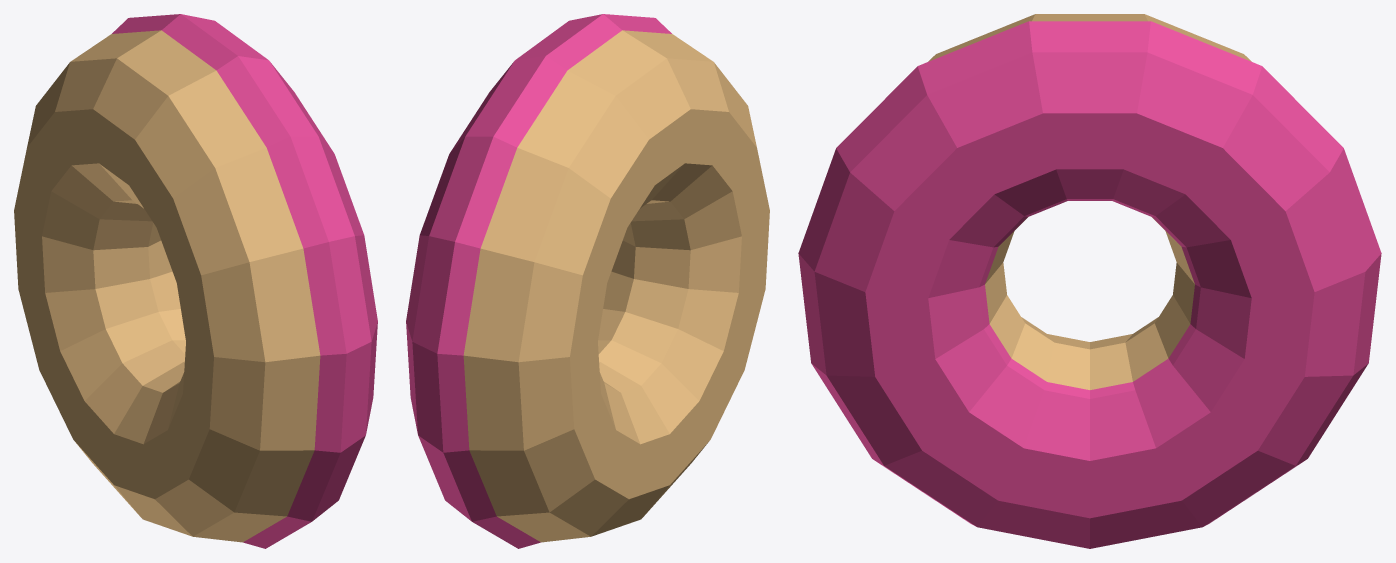
Rendered from Donut.glb.
3 views of the same model, side by side, from view 1: azimuth 30°, elevation 25°; view 2: azimuth 150°, elevation 25°; view 3: azimuth 270°, elevation 25° (orthographic). The views are drawn at different scales.
Visible parts, largest first — view 1: Donut; view 2: Donut; view 3: Donut.
Boxes of the visible parts, x1,y1,x2,y2 form: Donut: (14,14,377,548); Donut: (406,14,769,548); Donut: (798,14,1381,548).
Bounding box in the file's own units: 0.5095 × 1.52 × 1.53.
